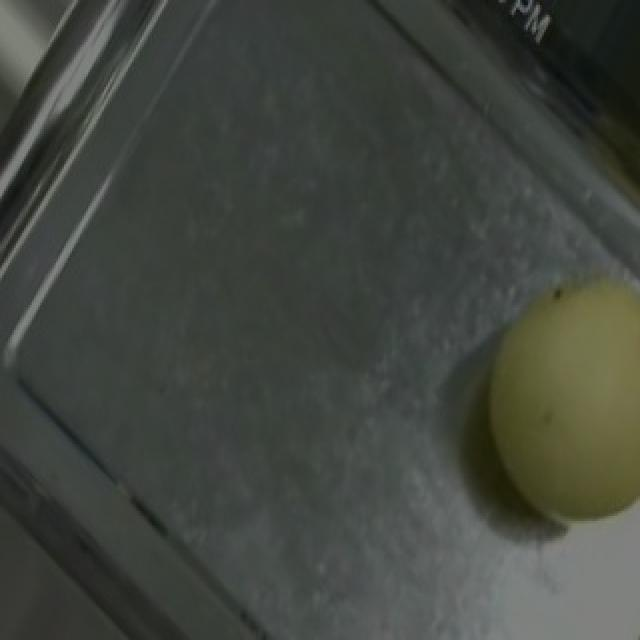Fruit: (442, 243, 640, 553)
